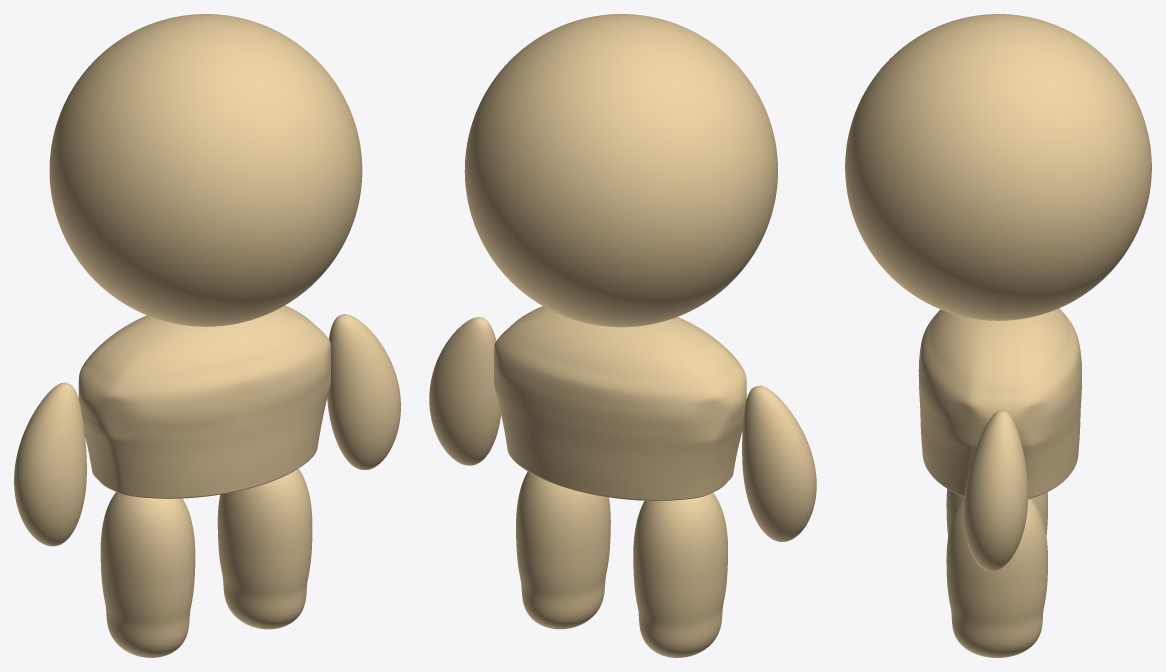
The model's file is Masculine-Masculine-pants-clothed-base263-cea1c7fa.glb.
3 renders of one model, left to right at view 1: azimuth 30°, elevation 25°; view 2: azimuth 150°, elevation 25°; view 3: azimuth 270°, elevation 25°, orthographic. The views are drawn at different scales.
Visible parts, largest first — view 1: Skin / soft oval head, Skin / rounded torso, Skin / pants fitted leg -1, Skin / pants fitted leg 1, Skin / swept arm -1, Skin / swept arm 1; view 2: Skin / soft oval head, Skin / rounded torso, Skin / pants fitted leg -1, Skin / pants fitted leg 1, Skin / swept arm -1, Skin / swept arm 1; view 3: Skin / soft oval head, Skin / rounded torso, Skin / pants fitted leg 1, Skin / swept arm 1, Skin / pants fitted leg -1.
Part boxes in pixels (bbox=[...]): Skin / soft oval head: bbox=[49, 14, 362, 326]; Skin / rounded torso: bbox=[78, 305, 330, 498]; Skin / pants fitted leg -1: bbox=[100, 492, 195, 657]; Skin / pants fitted leg 1: bbox=[217, 468, 312, 629]; Skin / swept arm -1: bbox=[14, 382, 86, 546]; Skin / swept arm 1: bbox=[327, 314, 400, 469]; Skin / soft oval head: bbox=[464, 14, 777, 327]; Skin / rounded torso: bbox=[494, 306, 746, 500]; Skin / pants fitted leg -1: bbox=[633, 492, 727, 657]; Skin / pants fitted leg 1: bbox=[516, 471, 610, 629]; Skin / swept arm -1: bbox=[742, 385, 816, 541]; Skin / swept arm 1: bbox=[429, 317, 500, 465]; Skin / soft oval head: bbox=[845, 14, 1151, 320]; Skin / rounded torso: bbox=[918, 308, 1081, 498]; Skin / pants fitted leg 1: bbox=[946, 498, 1047, 657]; Skin / swept arm 1: bbox=[963, 410, 1028, 571]; Skin / pants fitted leg -1: bbox=[946, 489, 1047, 536].
Size of the model in its own units: 1.07 by 1.65 by 0.768.
